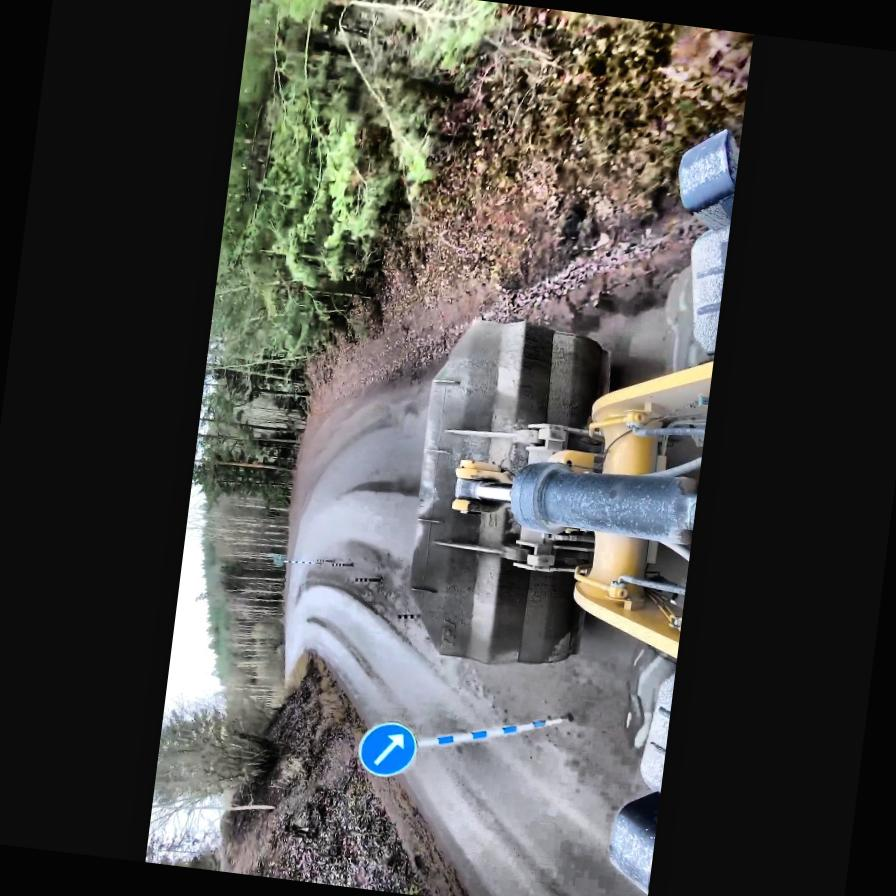anchor: (449, 458, 514, 516)
